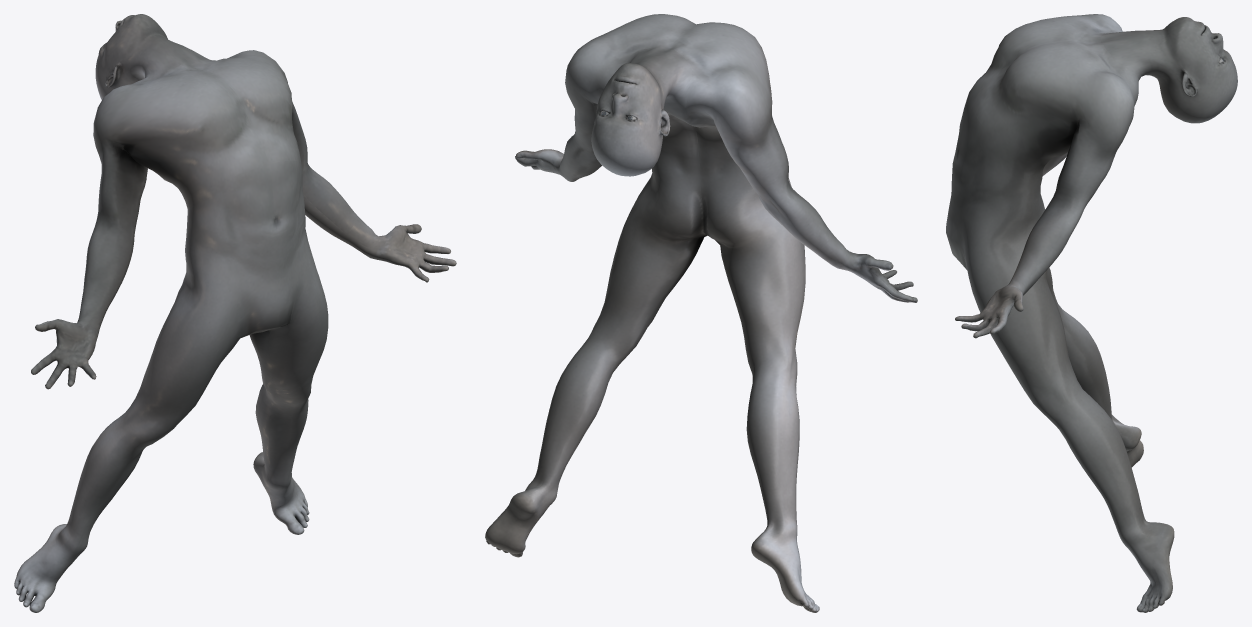
File: male_dynamic.glb
The picture shows the model from 3 angles, left to right: view 1: azimuth 30°, elevation 25°; view 2: azimuth 150°, elevation 25°; view 3: azimuth 270°, elevation 25°; orthographic projection. The views are drawn at different scales.
Visible parts, largest first — view 1: male_dynamic; view 2: male_dynamic; view 3: male_dynamic.
Part boxes in pixels (<box>): male_dynamic: <box>14,14,456,612</box>; male_dynamic: <box>485,14,917,612</box>; male_dynamic: <box>946,14,1237,612</box>.
Bounding box in the file's own units: 1.08 × 1.36 × 0.6815.
Materials: 1 (1 with a texture image).
